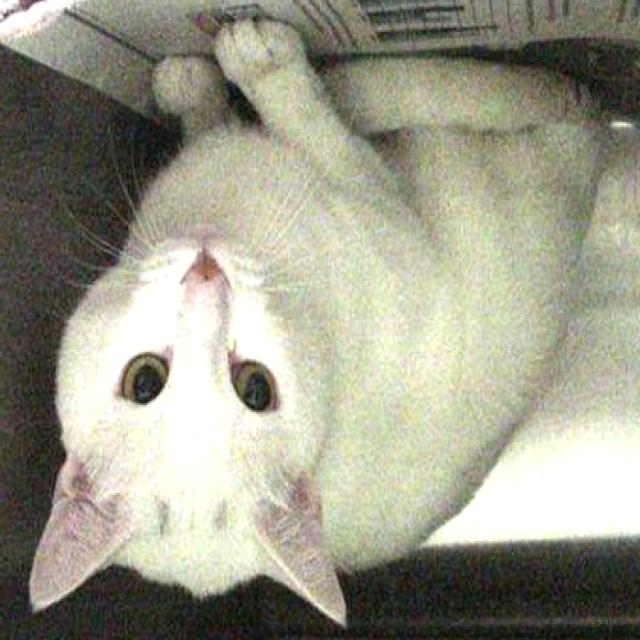Kucing: (7, 0, 605, 621)
